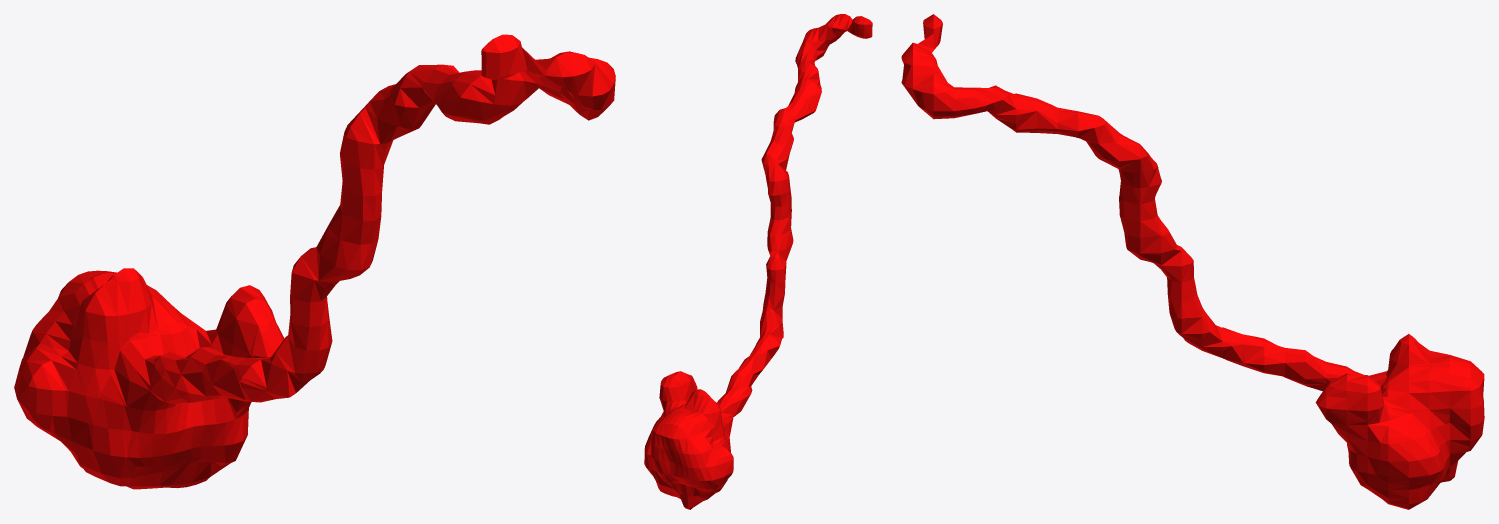
Rendered from narJ_coarse.dae.
The picture shows the model from 3 angles, left to right: view 1: azimuth 30°, elevation 25°; view 2: azimuth 150°, elevation 25°; view 3: azimuth 270°, elevation 25°; orthographic projection. The views are drawn at different scales.
Visible parts, largest first — view 1: narJ; view 2: narJ; view 3: narJ.
Boxes of the visible parts, x1=… form: narJ: x1=14, y1=34, x2=615, y2=489; narJ: x1=644, y1=14, x2=872, y2=509; narJ: x1=901, y1=14, x2=1484, y2=509.
Bounding box in the file's own units: 49.44 × 153 × 167.
